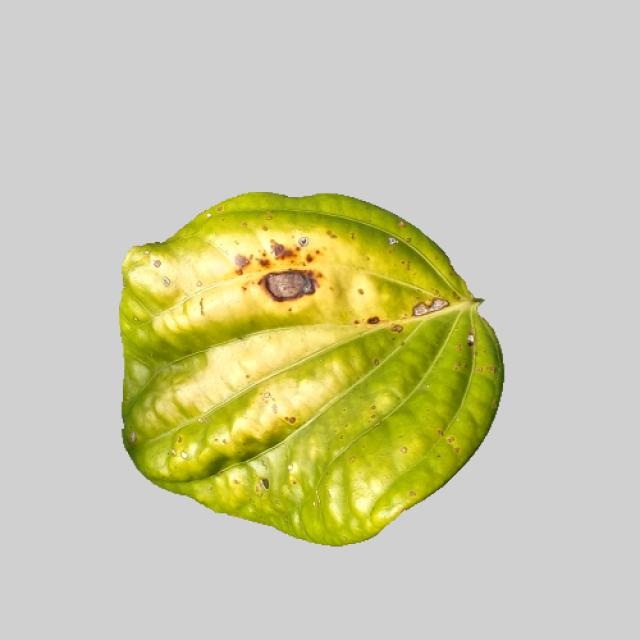leaf-blight: (110, 197, 510, 548)
